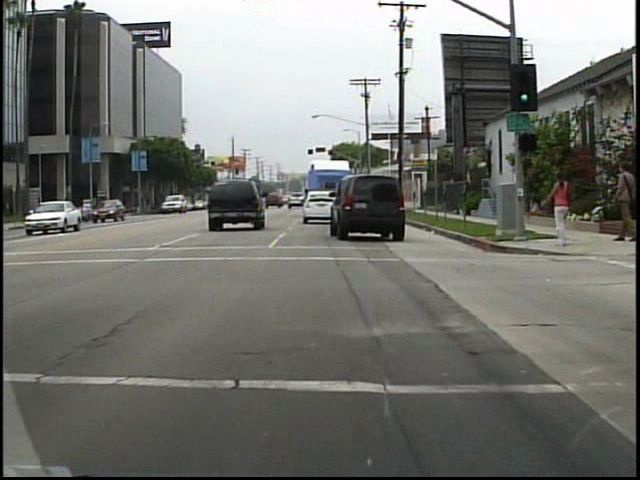person: (539, 168, 579, 249), (606, 155, 636, 244)
